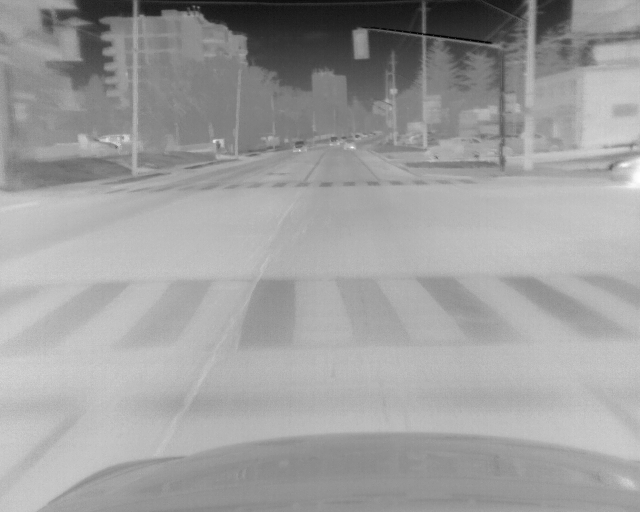car: (445, 134, 487, 154), (94, 133, 131, 147), (292, 139, 306, 153), (343, 140, 356, 151), (328, 136, 339, 146), (354, 132, 364, 140)
